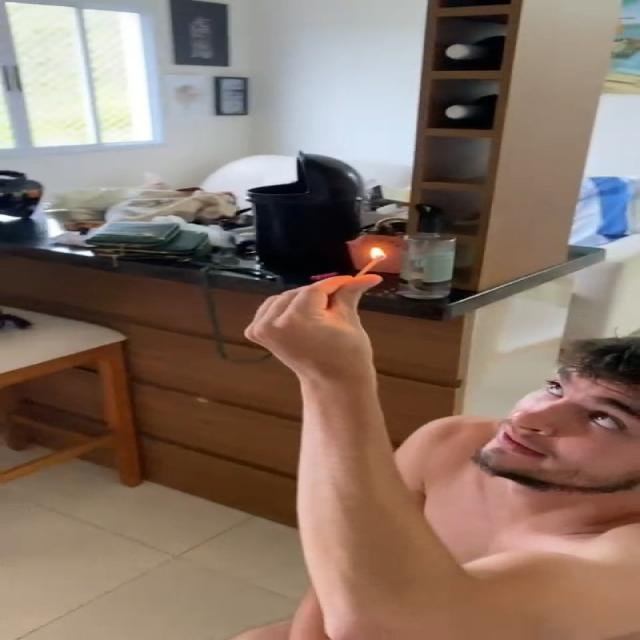fogo-ypXI: (369, 246, 387, 260)
